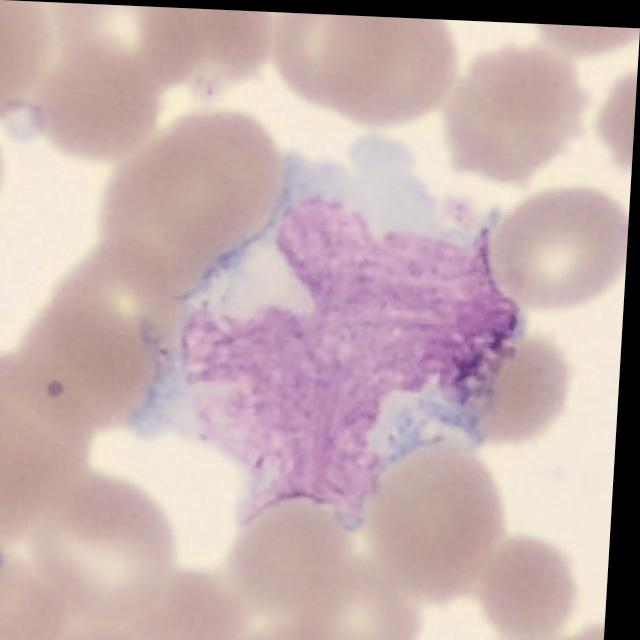Monocito: (131, 133, 528, 528)
